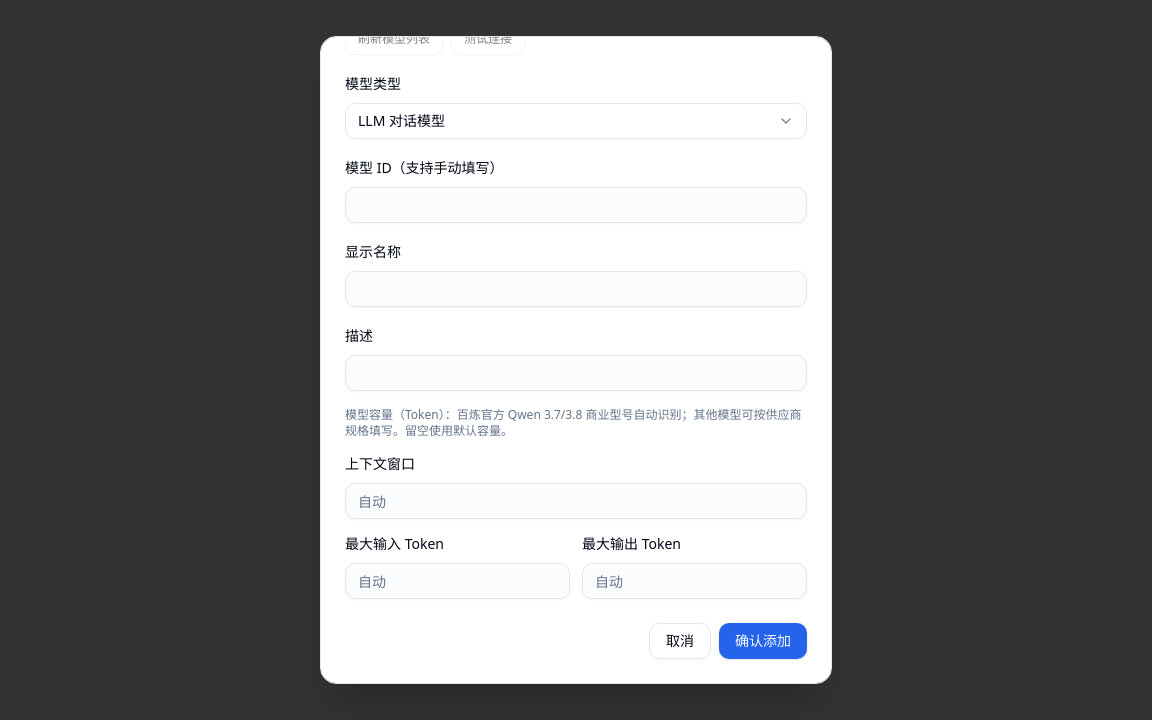
Test: shadcn model configuration › starts empty and requires user configuration before connecting or adding
(page scrolled)
expect the field labelled "模型 ID（支持手动填写）" is empty: met, box x1=345 y1=187 x2=807 y2=223
Click the button "确认添加" at (763, 641), box x1=719 y1=623 x2=807 y2=659
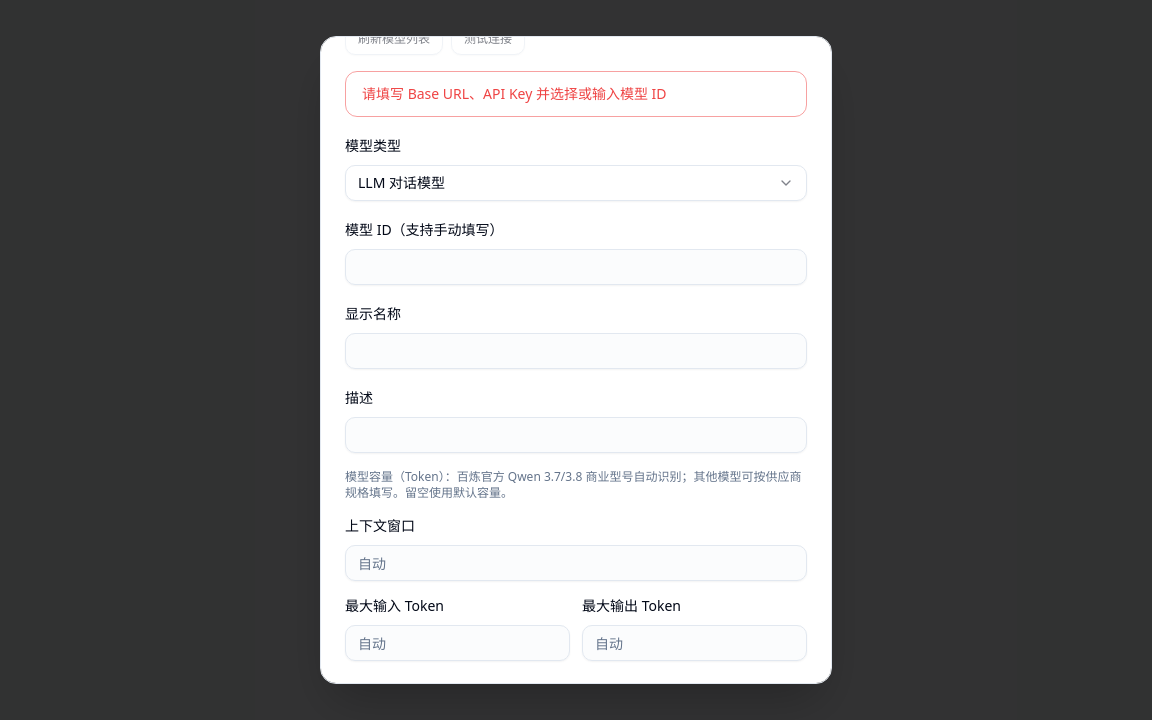
expect the message shows "API Key": met, box x1=362 y1=84 x2=667 y2=103
